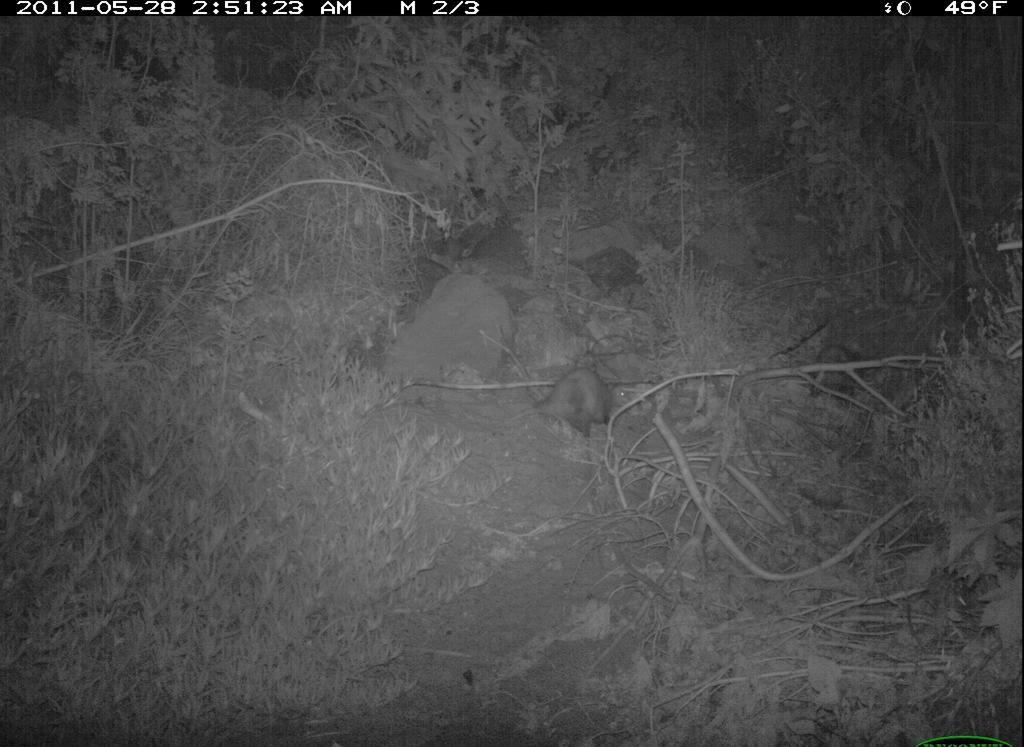opossum: (530, 363, 639, 452)
